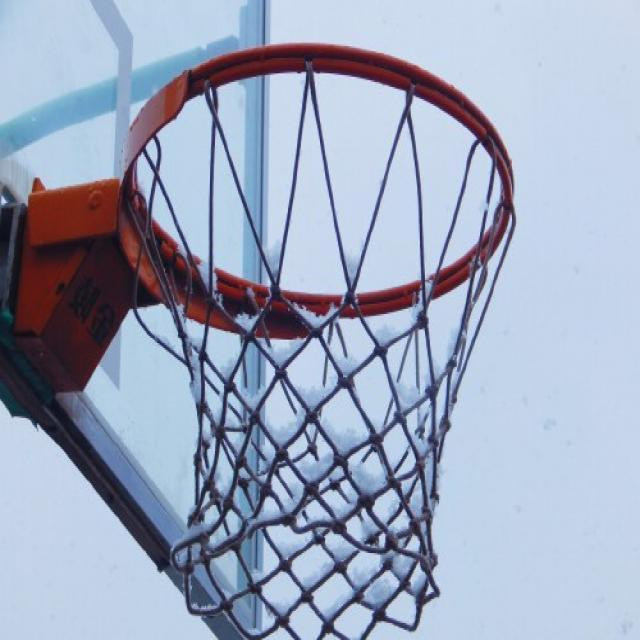hoop: (97, 77, 530, 598)
